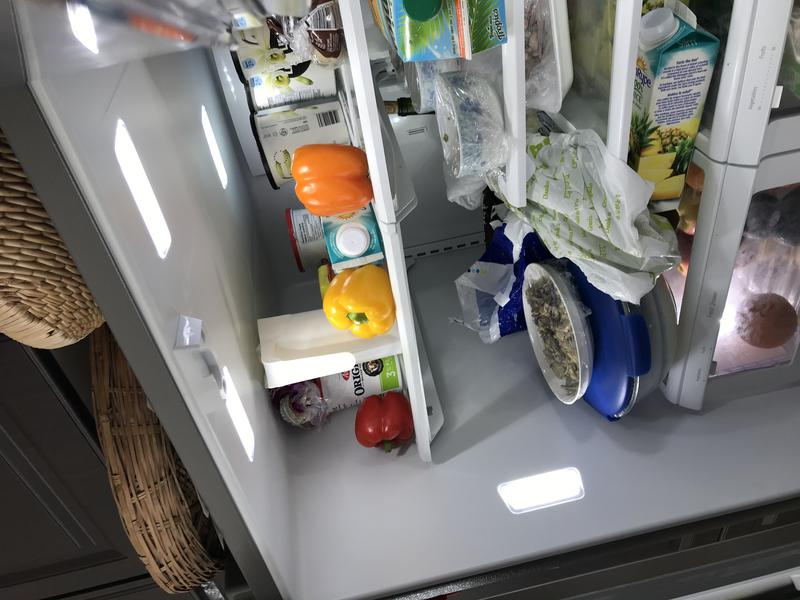orange_pepper: (283, 138, 378, 221)
red_pepper: (349, 387, 424, 460)
yellow_pepper: (322, 261, 399, 345)
